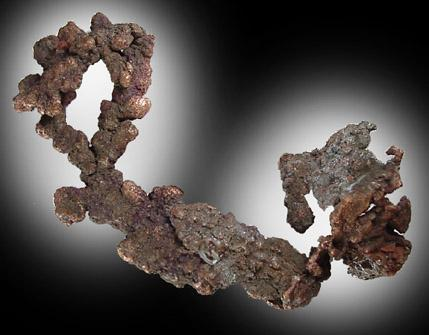copper: (13, 14, 413, 310)
